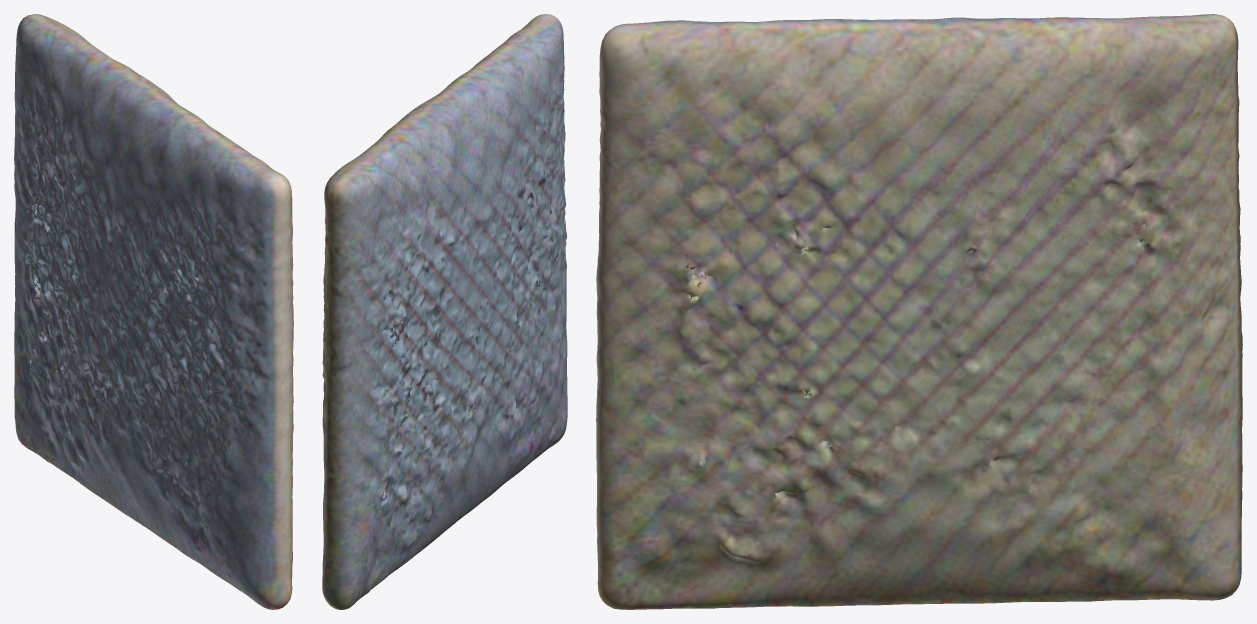
Rendered from ground.glb.
3 views of the same model, side by side, from view 1: azimuth 30°, elevation 25°; view 2: azimuth 150°, elevation 25°; view 3: azimuth 270°, elevation 25° (orthographic). The views are drawn at different scales.
Parts seen in each view (by area): view 1: Mesh1; view 2: Mesh1; view 3: Mesh1.
Boxes of the visible parts, box(x1,y1,x2,y2) form: Mesh1: box(14, 14, 293, 609); Mesh1: box(322, 14, 567, 609); Mesh1: box(596, 14, 1242, 609).
Size of the model in its own units: 0.2426 by 1.19 by 1.2.
Materials: 1 (1 with a texture image).
